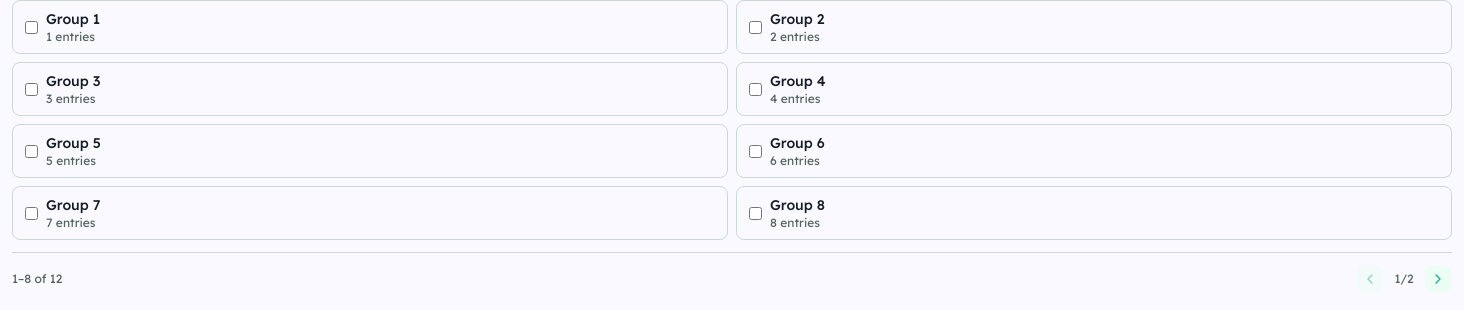
Test: AgentAttachCheckboxList › keeps checked state when returning to the first page
Click the checkbox labelled "Group 3 3 entries". click: {"x": 32, "y": 89}
box: x1=25 y1=82 x2=38 y2=96
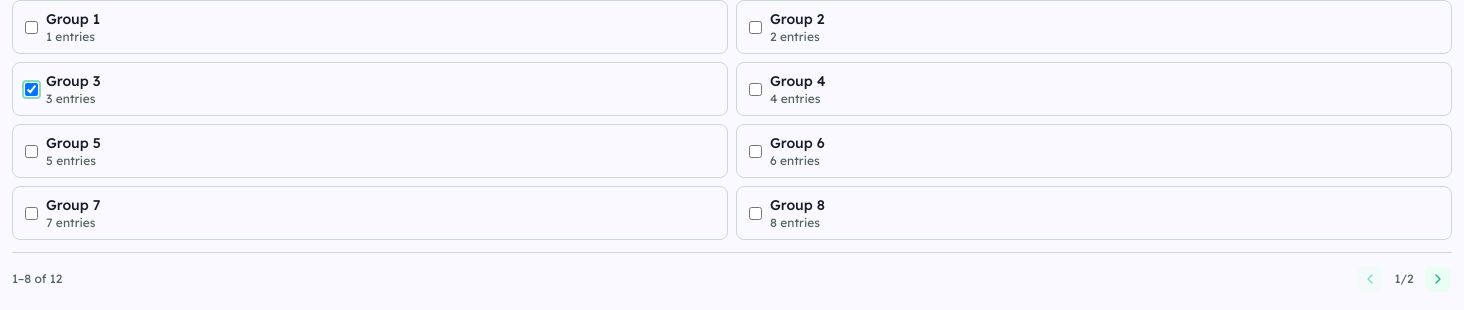
Click the button named "Next page". click: {"x": 1438, "y": 279}
box: x1=1424 y1=265 x2=1452 y2=293
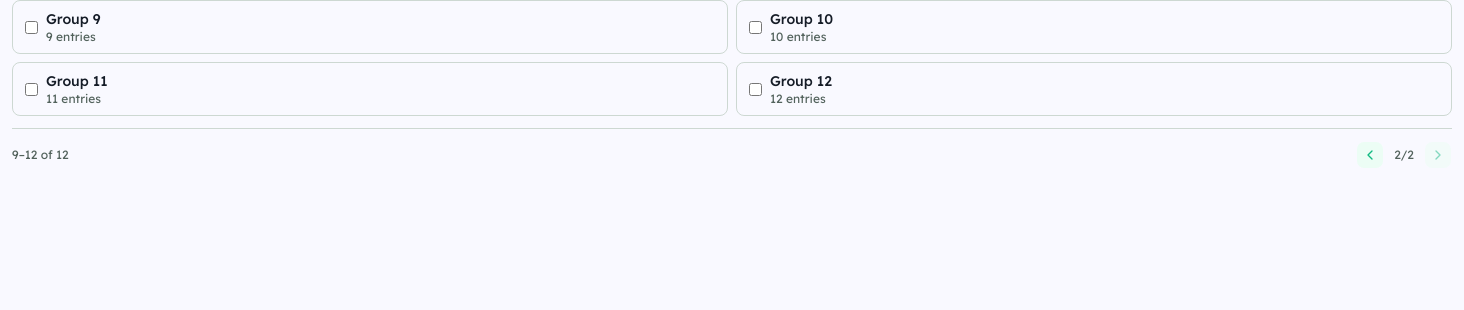
Click the button named "Previous page". click: {"x": 1370, "y": 155}
box: x1=1356 y1=141 x2=1384 y2=169
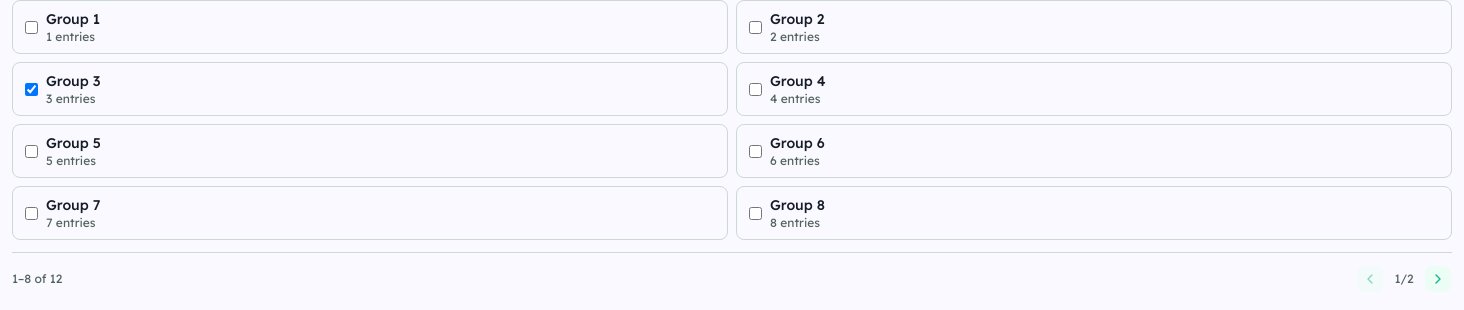
expect the checkbox labelled "Group 3 3 entries" is checked: met, box x1=25 y1=82 x2=38 y2=96
